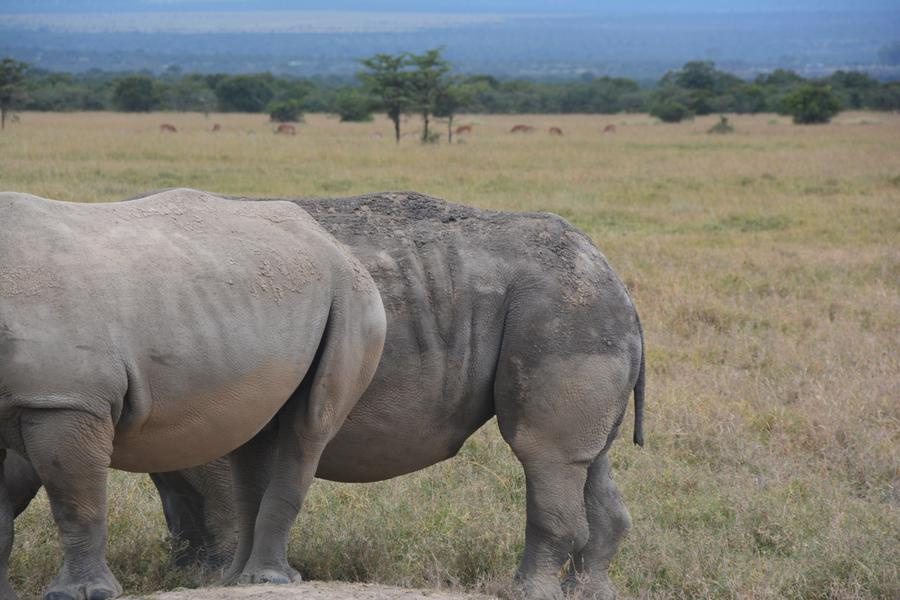rhino: (13, 198, 381, 493), (391, 198, 647, 472)
